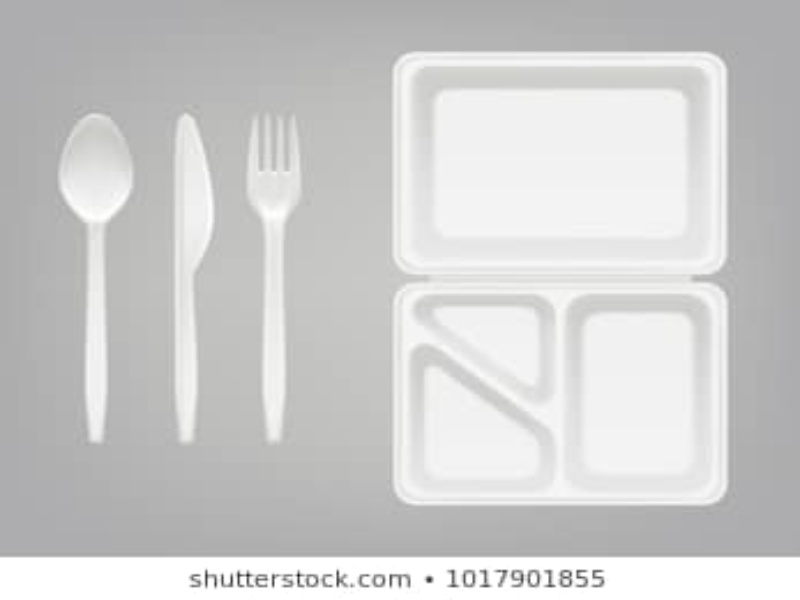plastic-plate: (379, 44, 747, 513)
plastic-silverware: (47, 108, 146, 445), (240, 112, 313, 447), (156, 112, 223, 447)
